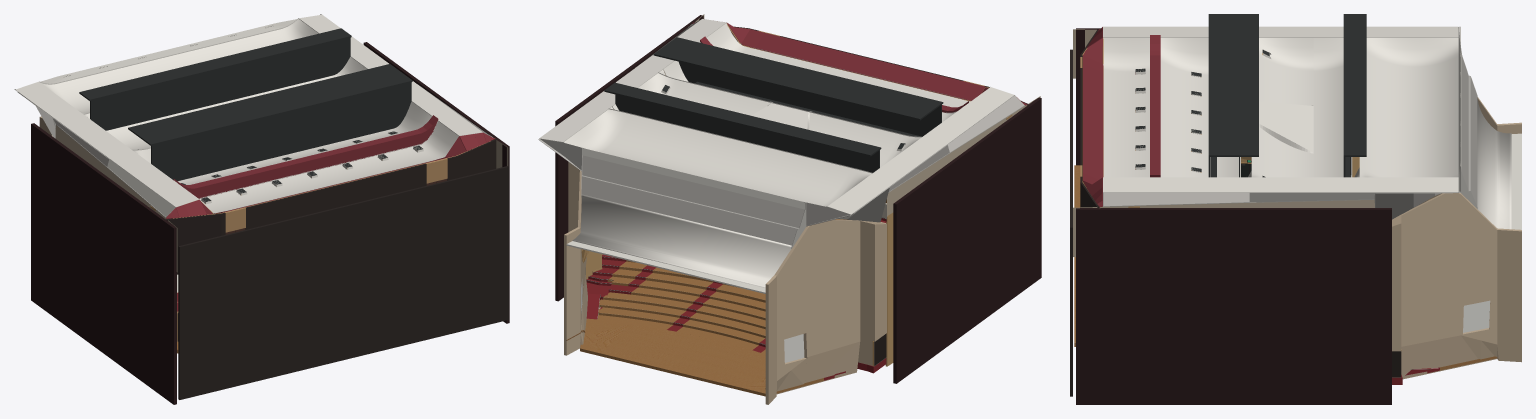
3 renders of one model, left to right at view 1: azimuth 30°, elevation 25°; view 2: azimuth 150°, elevation 25°; view 3: azimuth 270°, elevation 25°, orthographic. The views are drawn at different scales.
Visible parts, largest first — view 1: bake_ceiling, bake_lowroom, bake_walls, bake_hall_detail; view 2: bake_ceiling, bake_walls, bake_floor1, bake_carpet, bake_hall_detail, bake_trim, bake_scrim; view 3: bake_walls, bake_ceiling, bake_lowroom, bake_hall_detail, bake_scrim, bake_floor1.
Part boxes in pixels (<box>): bake_ceiling: <box>14,14,495,219</box>; bake_lowroom: <box>177,166,508,399</box>; bake_walls: <box>31,42,509,404</box>; bake_hall_detail: <box>63,26,423,204</box>; bake_ceiling: <box>538,19,1027,287</box>; bake_walls: <box>555,14,1041,404</box>; bake_floor1: <box>580,219,848,396</box>; bake_carpet: <box>586,218,886,380</box>; bake_hall_detail: <box>582,85,905,209</box>; bake_trim: <box>586,217,886,362</box>; bake_scrim: <box>581,279,804,362</box>; bake_walls: <box>1073,28,1521,404</box>; bake_ceiling: <box>1082,14,1511,229</box>; bake_lowroom: <box>1070,49,1072,396</box>; bake_hall_detail: <box>1135,48,1461,177</box>; bake_scrim: <box>1463,300,1490,332</box>; bake_floor1: <box>1074,165,1497,370</box>.
Size of the model in its own units: 29.86 by 17.64 by 31.45.
71 materials, 6 textured.
